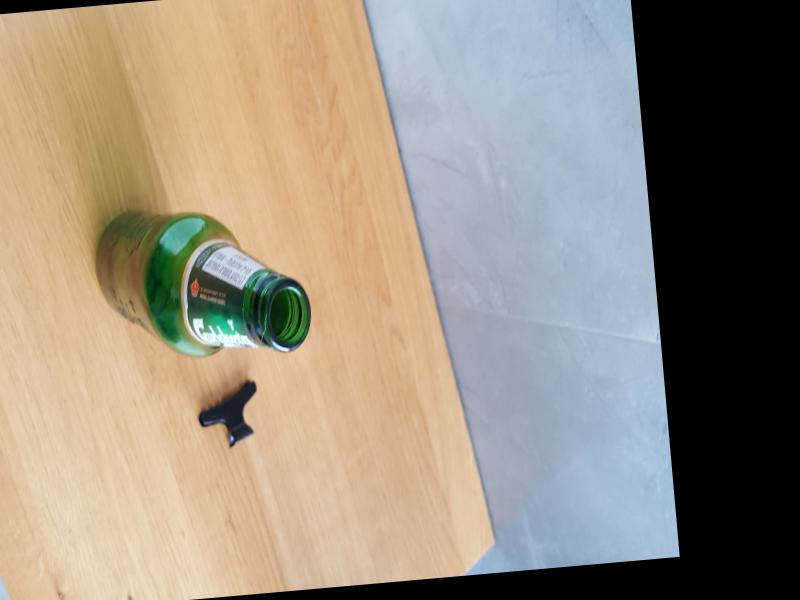Beer: (89, 195, 314, 369)
